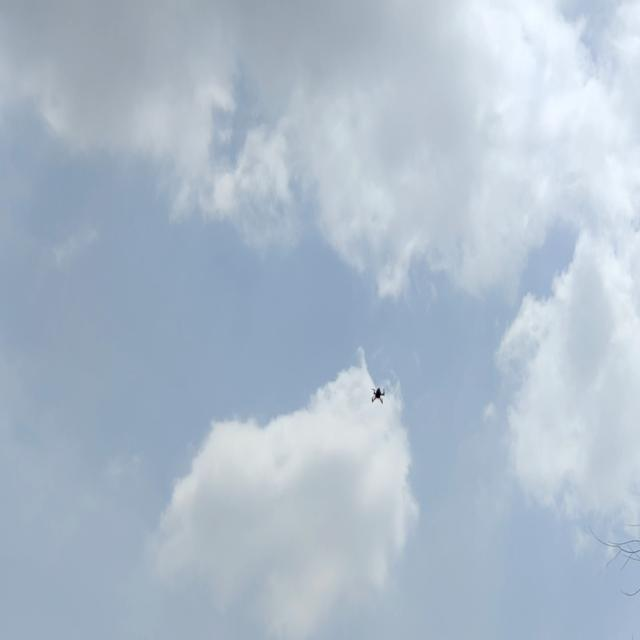drone: (368, 384, 391, 408)
